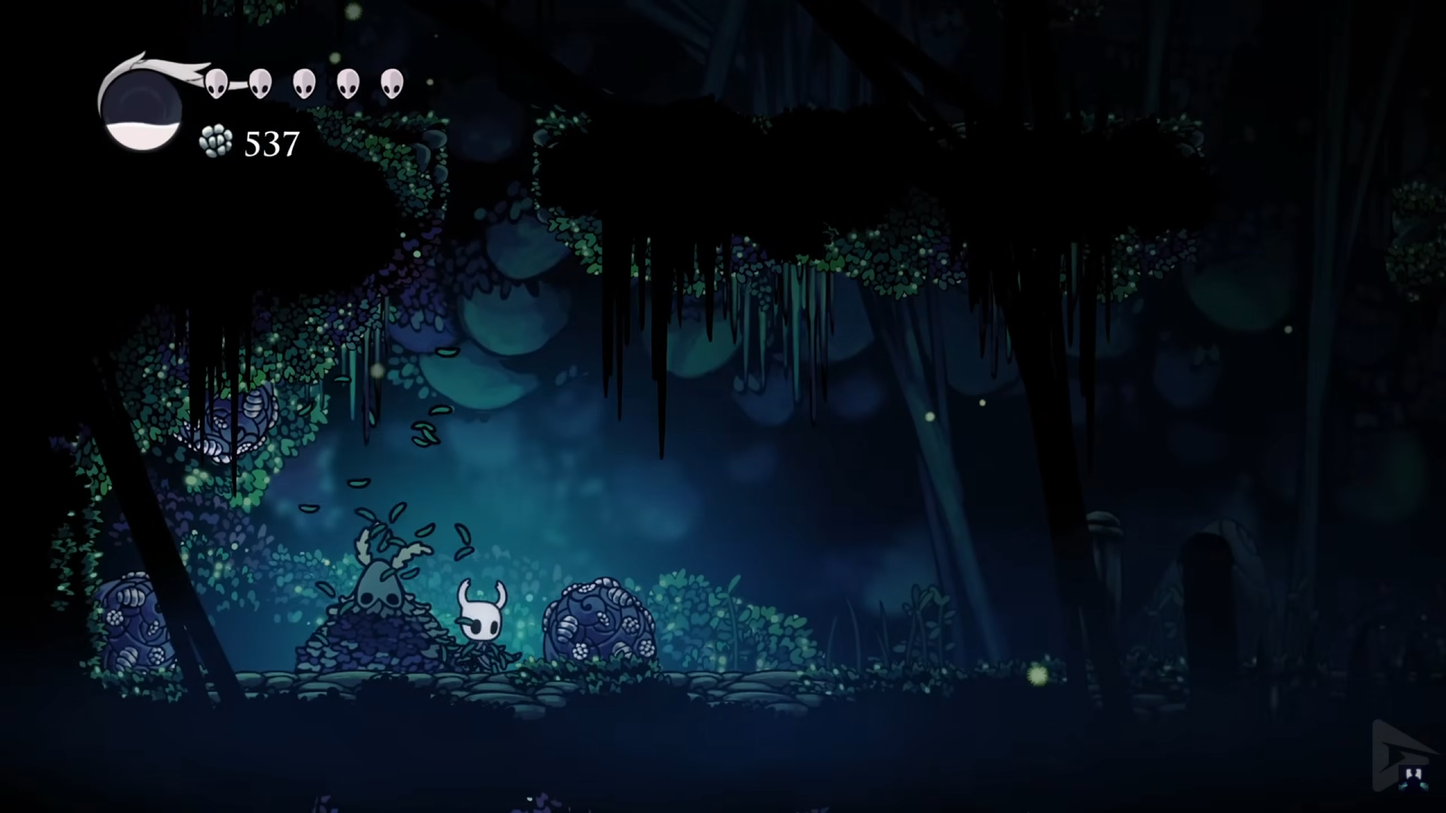HK: (453, 574, 510, 670)
